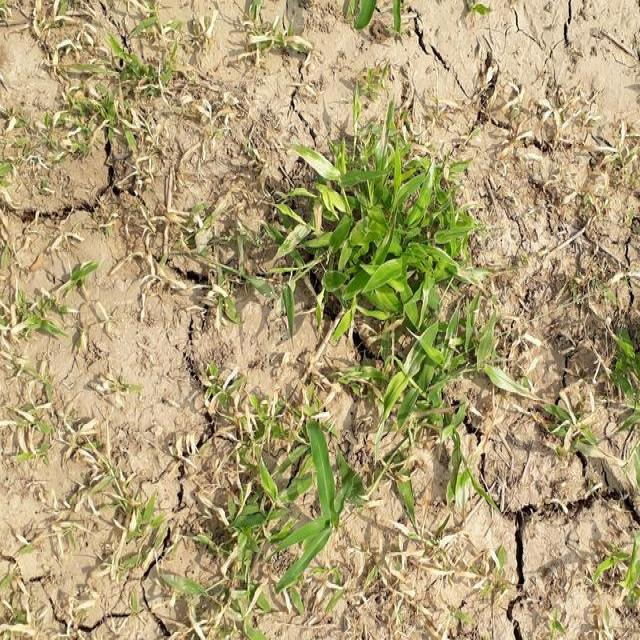weed: (278, 125, 516, 447)
